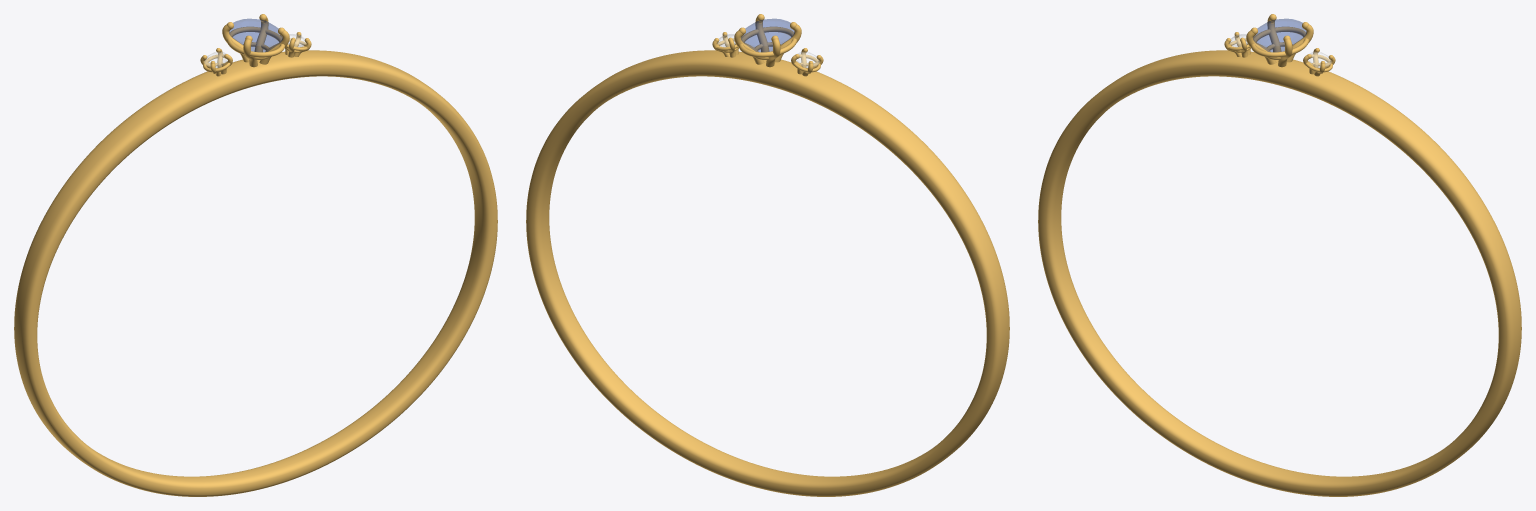
File: Bracelet_Bangle_Preview.glb
The picture shows the model from 3 angles, left to right: view 1: azimuth 30°, elevation 25°; view 2: azimuth 150°, elevation 25°; view 3: azimuth 330°, elevation 25°; orthographic projection.
Parts seen in each view (by area): view 1: Band, Head_Center, PreviewGem_Center, Head_SideR; view 2: Band, Head_Center, PreviewGem_Center, Head_SideR; view 3: Band, Head_Center, PreviewGem_Center, Head_SideL.
Boxes of the visible parts, x1,y1,x2,y2 form: Band: (14, 50, 497, 496); Head_Center: (222, 14, 289, 67); PreviewGem_Center: (229, 19, 282, 51); Head_SideR: (200, 48, 232, 76); Band: (526, 50, 1009, 496); Head_Center: (734, 14, 801, 67); PreviewGem_Center: (741, 19, 794, 51); Head_SideR: (791, 48, 823, 76); Band: (1038, 50, 1521, 496); Head_Center: (1246, 14, 1313, 67); PreviewGem_Center: (1253, 19, 1306, 51); Head_SideL: (1303, 48, 1335, 76).
Size of the model in its own units: 0.0661 by 0.0613 by 0.00831.
